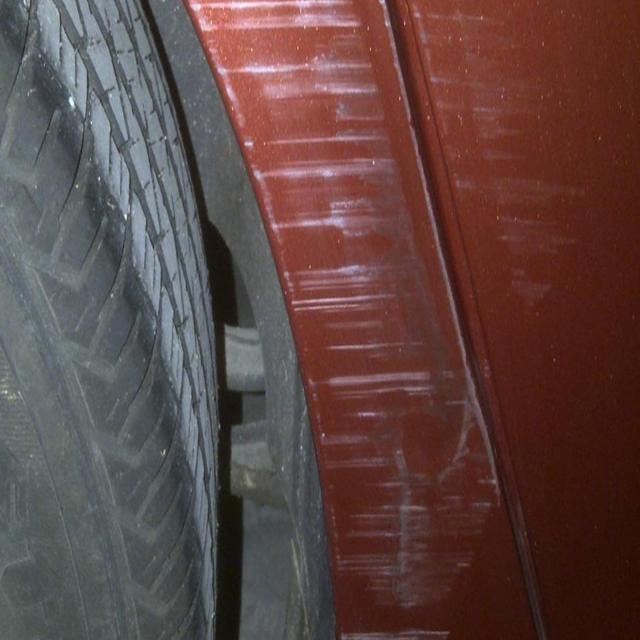scratch: (182, 5, 532, 636)
